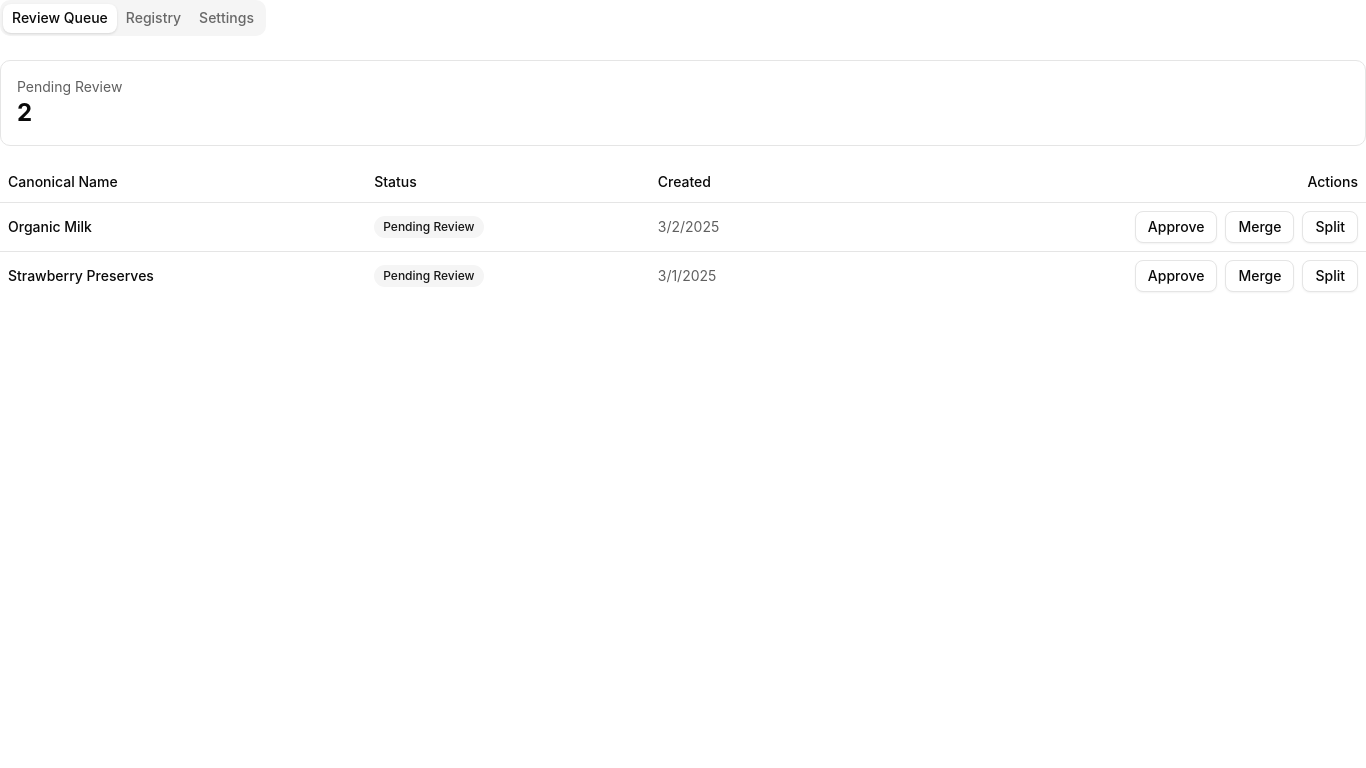
Test case: NormalizedDescriptions review queue › opens merge dialog when Merge is clicked
This screenshot has width=1366, height=768.
Click the button "Merge" in the row of "Strawberry Preserves" at (1260, 276), box [1225,260,1294,292]
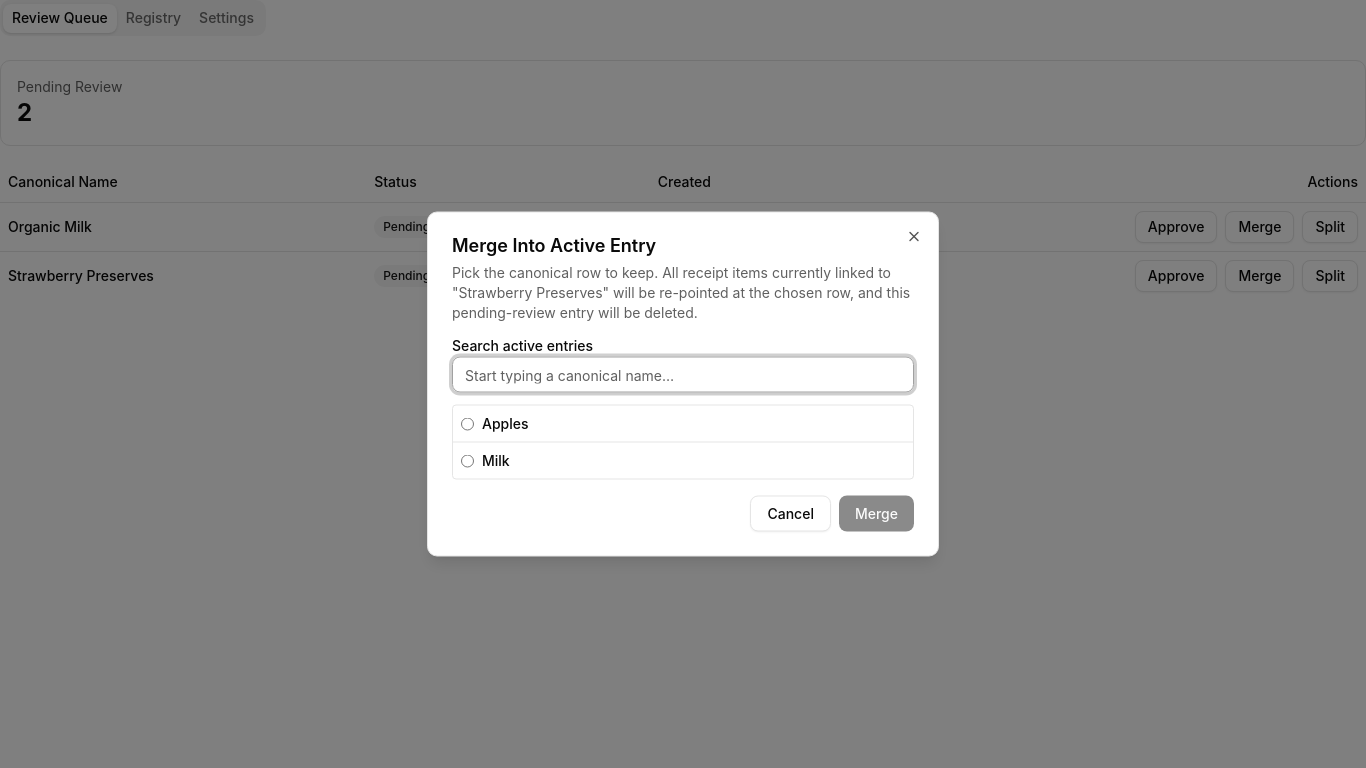
Result: the heading "Merge Into Active Entry" is shown at [452,234,656,256]
Result: the text "Apples" is shown at [482,414,528,434]
Result: the text "Milk" is shown at [482,450,510,470]
